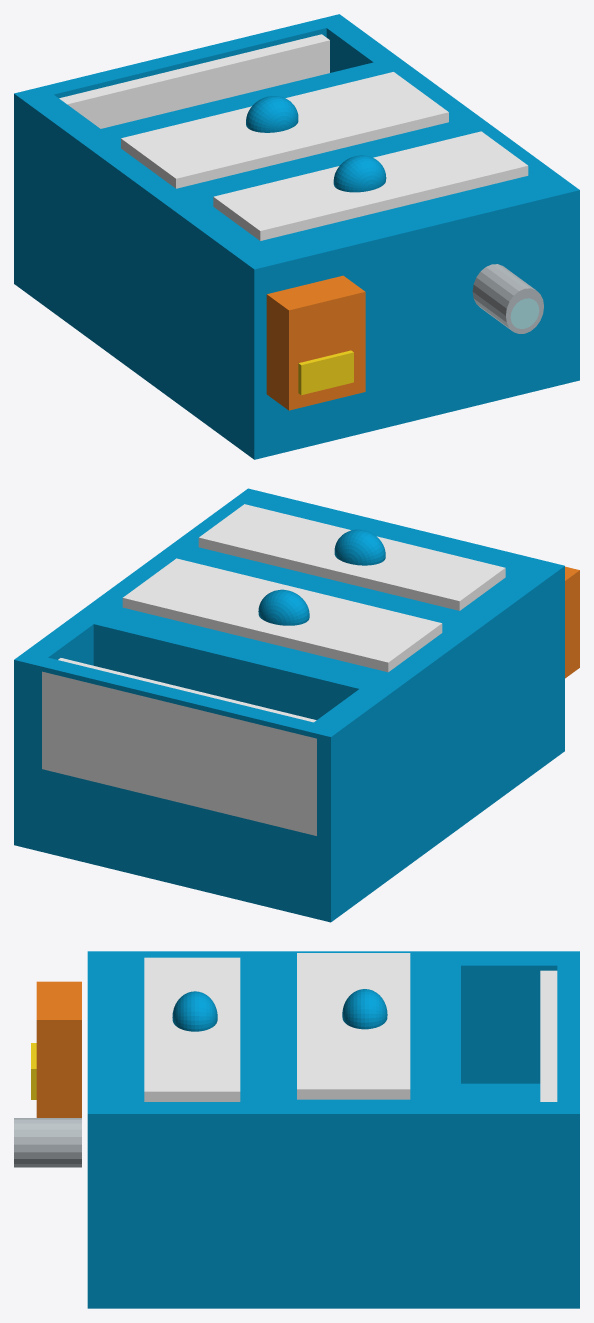
File: tinker.obj
3 views of the same model, one above another, from view 1: azimuth 30°, elevation 25°; view 2: azimuth 150°, elevation 25°; view 3: azimuth 270°, elevation 25° (orthographic). The views are drawn at different scales.
Visible parts, largest first — view 1: group_0_40919, group_0_16448250, group_0_16089887, group_0_12568524, group_0_16768282, group_0_11593967; view 2: group_0_40919, group_0_16448250, group_0_16089887; view 3: group_0_40919, group_0_16448250, group_0_16089887, group_0_12568524.
Part boxes in pixels (x1,y1,x2,y2): group_0_40919: [14, 14, 579, 459]; group_0_16448250: [59, 34, 528, 240]; group_0_16089887: [266, 275, 365, 410]; group_0_12568524: [472, 264, 543, 333]; group_0_16768282: [298, 350, 353, 395]; group_0_11593967: [510, 298, 539, 328]; group_0_40919: [14, 488, 564, 922]; group_0_16448250: [42, 504, 505, 835]; group_0_16089887: [565, 566, 579, 678]; group_0_40919: [87, 951, 579, 1308]; group_0_16448250: [144, 953, 557, 1101]; group_0_16089887: [36, 981, 81, 1117]; group_0_12568524: [14, 1118, 81, 1167].
Size of the model in its own units: 68 by 45 by 100.
